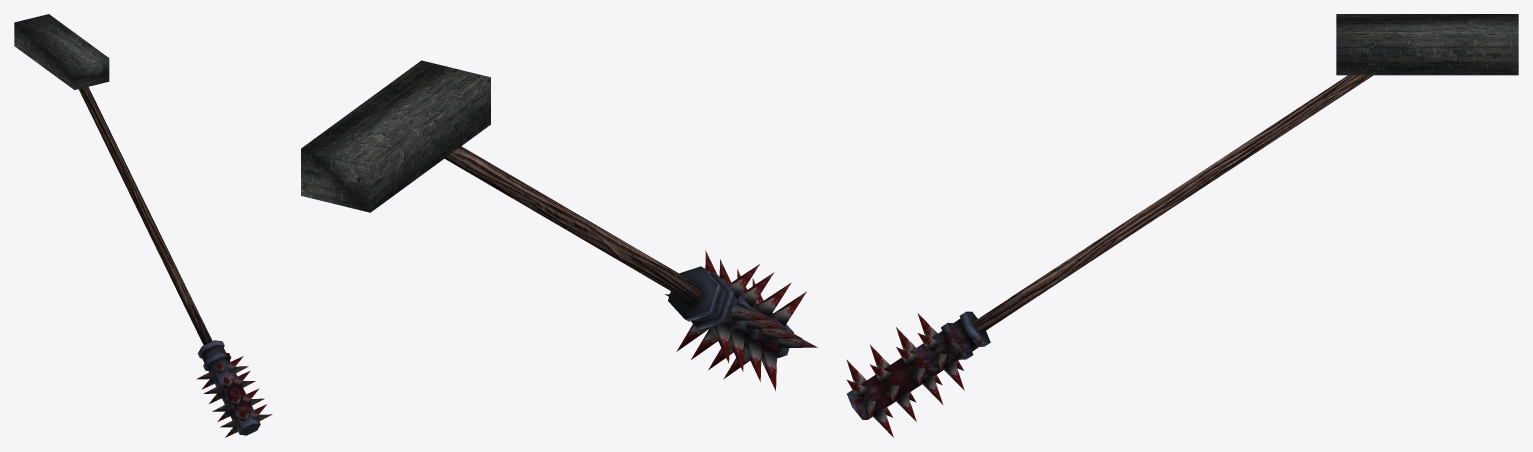
Rendered from anitrap4.fbx.
3 views of the same model, side by side, from view 1: azimuth 30°, elevation 25°; view 2: azimuth 150°, elevation 25°; view 3: azimuth 270°, elevation 25° (orthographic). The views are drawn at different scales.
Visible parts, largest first — view 1: trap4, rocktrap4; view 2: rocktrap4, trap4; view 3: trap4, rocktrap4.
Boxes of the visible parts, bbox=[...] form: trap4: bbox=[62, 40, 272, 437]; rocktrap4: bbox=[14, 14, 109, 89]; rocktrap4: bbox=[301, 60, 490, 212]; trap4: bbox=[396, 109, 817, 390]; trap4: bbox=[846, 26, 1423, 437]; rocktrap4: bbox=[1336, 14, 1518, 75].
Bounding box in the file's own units: 4.67 × 22.27 × 33.69.
